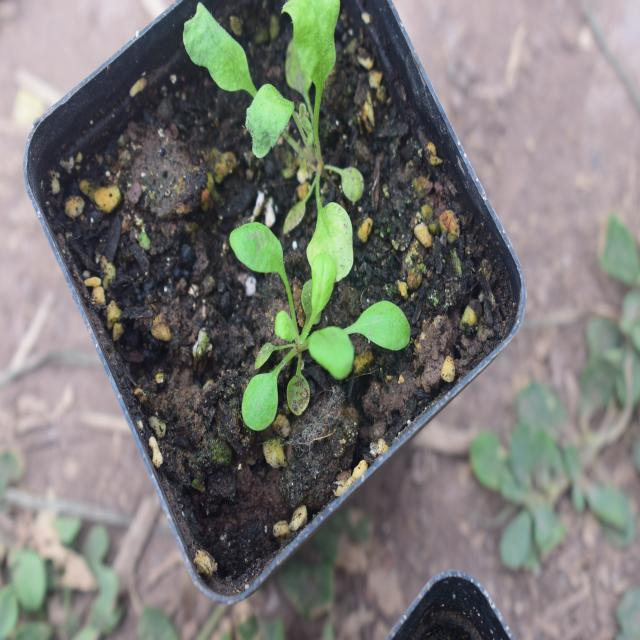Shepherd_Purse: (203, 203, 403, 423), (179, 0, 368, 166)
